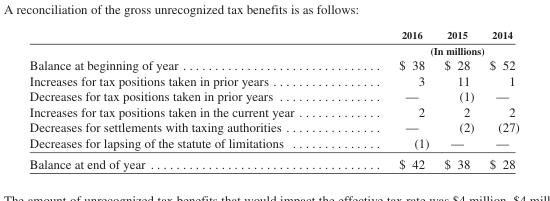table: (28, 28, 518, 170)
table column: (28, 28, 346, 170), (346, 28, 436, 170), (436, 28, 481, 170), (481, 28, 518, 170)
table column header: (28, 28, 518, 56)
table row: (28, 134, 518, 152), (28, 152, 518, 170), (28, 56, 518, 72), (28, 72, 518, 88), (28, 103, 518, 119), (28, 88, 518, 103), (28, 119, 518, 134), (28, 28, 518, 42), (28, 42, 518, 56)
table spanning cell: (346, 42, 518, 56)
